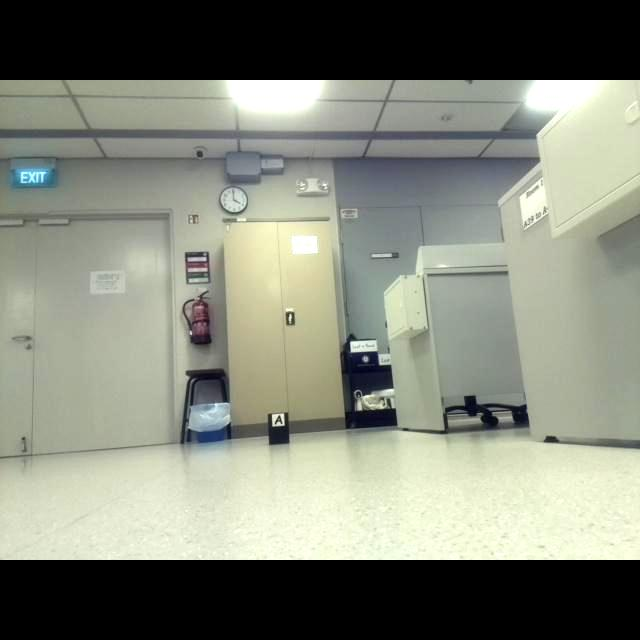A: (274, 415, 284, 426)
